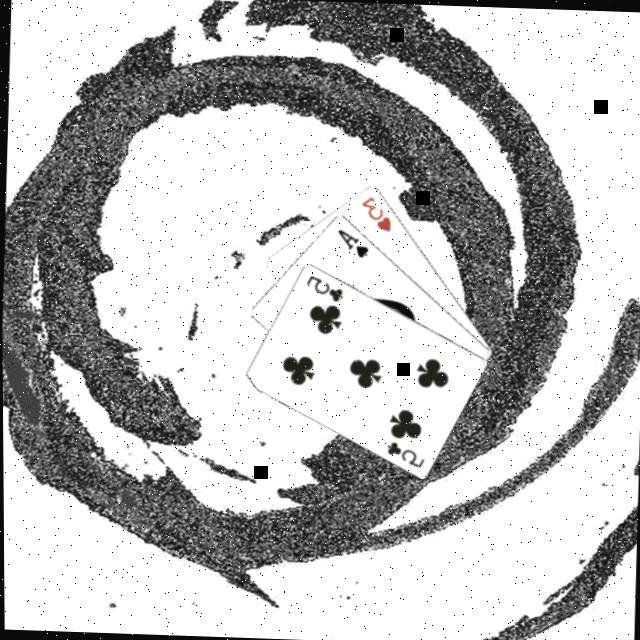3H: (359, 194, 396, 235)
5C: (384, 438, 429, 471), (303, 272, 347, 305)
AS: (334, 226, 373, 261)
